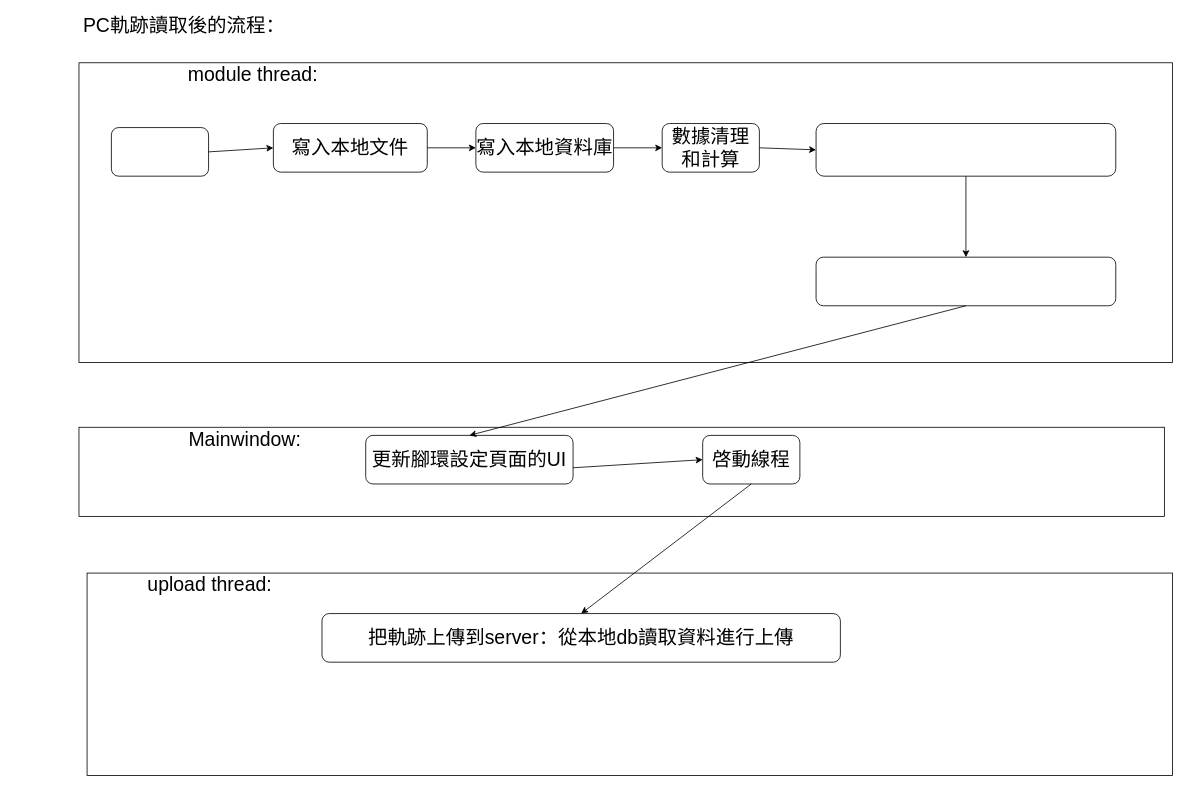
The diagram is 1187 pixels wide and 790 high, and some of its shapes have lost their labels. The shapes that lost their labels are listed below. From the top down, each one's centre as x and y in pixels, then its label:
At (160,151): "軌跡讀取rawdata".
At (965,149): "插入本地資料庫： insertMultiLocusText".
At (965,281): "製作地圖繪製軌跡的html：從本地資料庫拉取軌跡資料".
